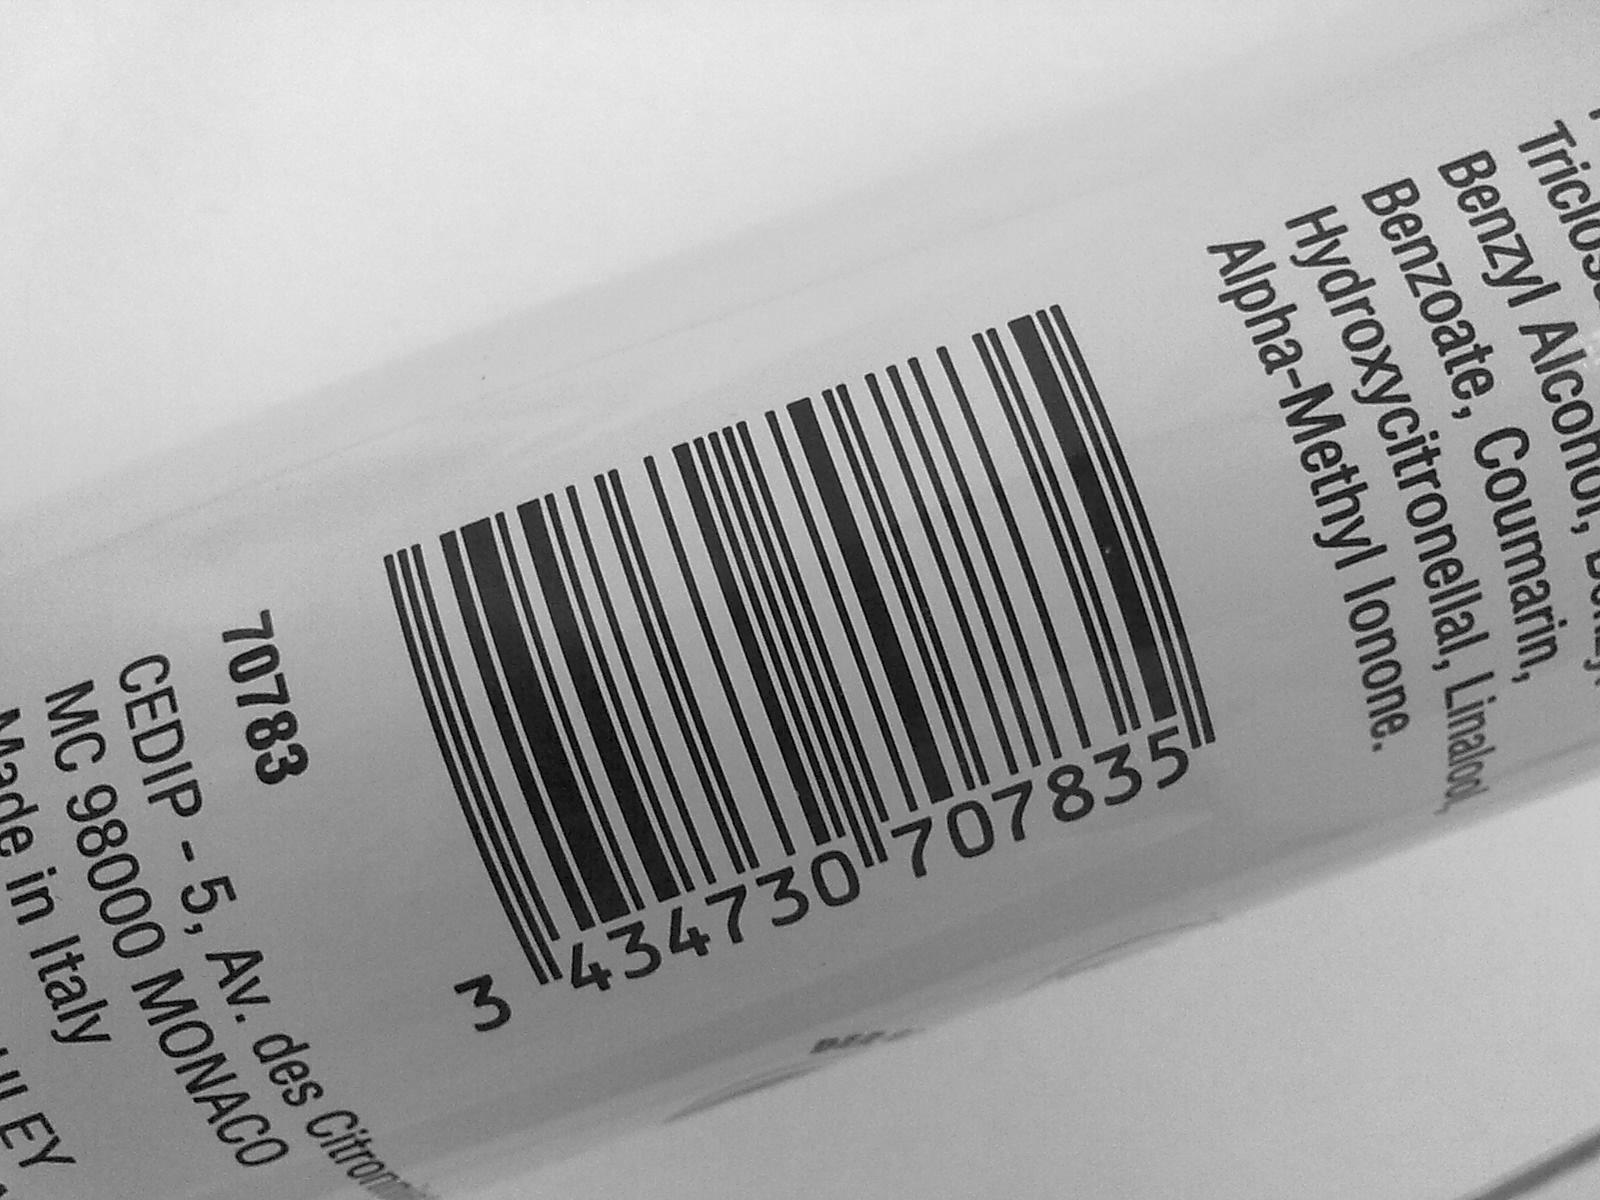Barcode: (365, 276, 1236, 997)
